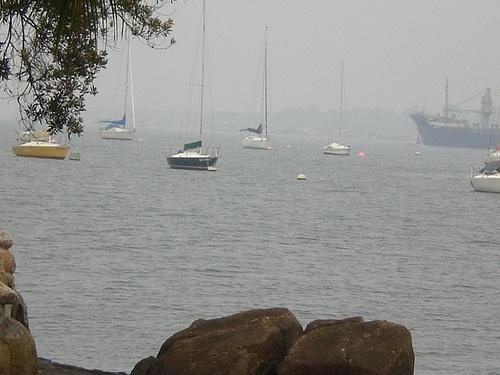boat: (410, 85, 500, 151), (168, 142, 220, 170), (14, 131, 68, 157), (472, 149, 500, 192), (99, 121, 135, 141), (245, 128, 270, 151), (325, 142, 353, 154)
